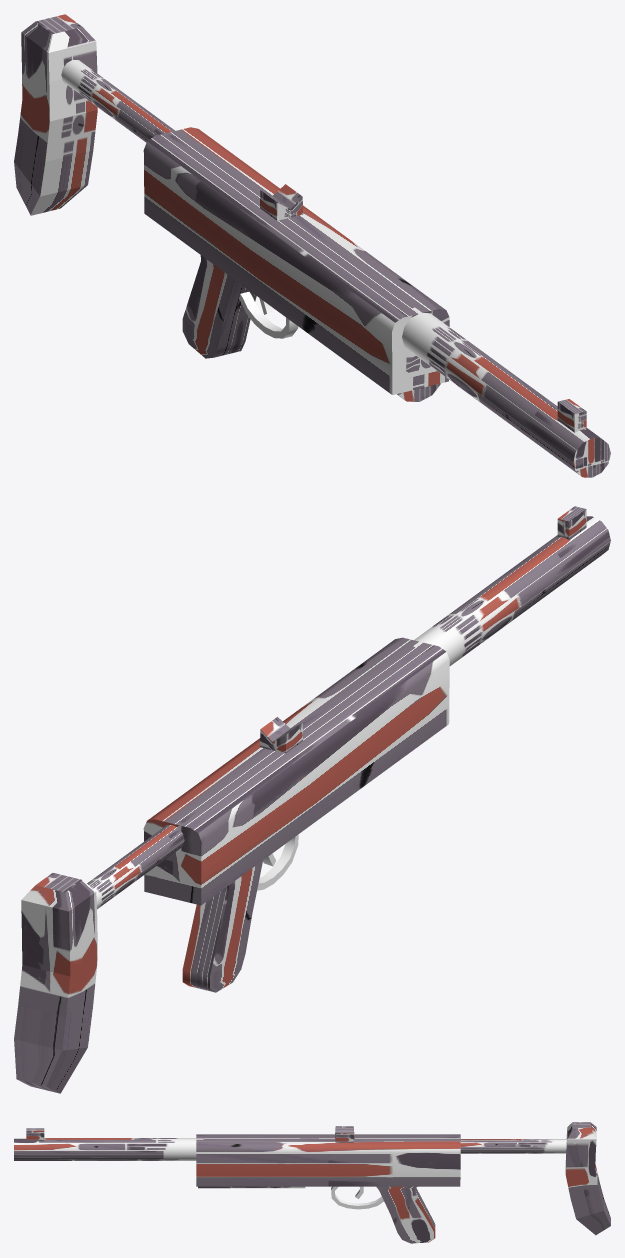
The model's file is Midas_Carbine.glb.
3 views of the same model, one above another, from view 1: azimuth 30°, elevation 25°; view 2: azimuth 150°, elevation 25°; view 3: azimuth 270°, elevation 25° (orthographic). The views are drawn at different scales.
Parts seen in each view (by area): view 1: Midas Carbine; view 2: Midas Carbine; view 3: Midas Carbine.
Part boxes in pixels (box(x1,y1,x2,y2)): Midas Carbine: box(14, 14, 610, 477); Midas Carbine: box(14, 506, 610, 1093); Midas Carbine: box(14, 1122, 610, 1243).
Bounding box in the file's own units: 0.073 × 0.2586 × 1.23.
Materials: 1 (1 with a texture image).
